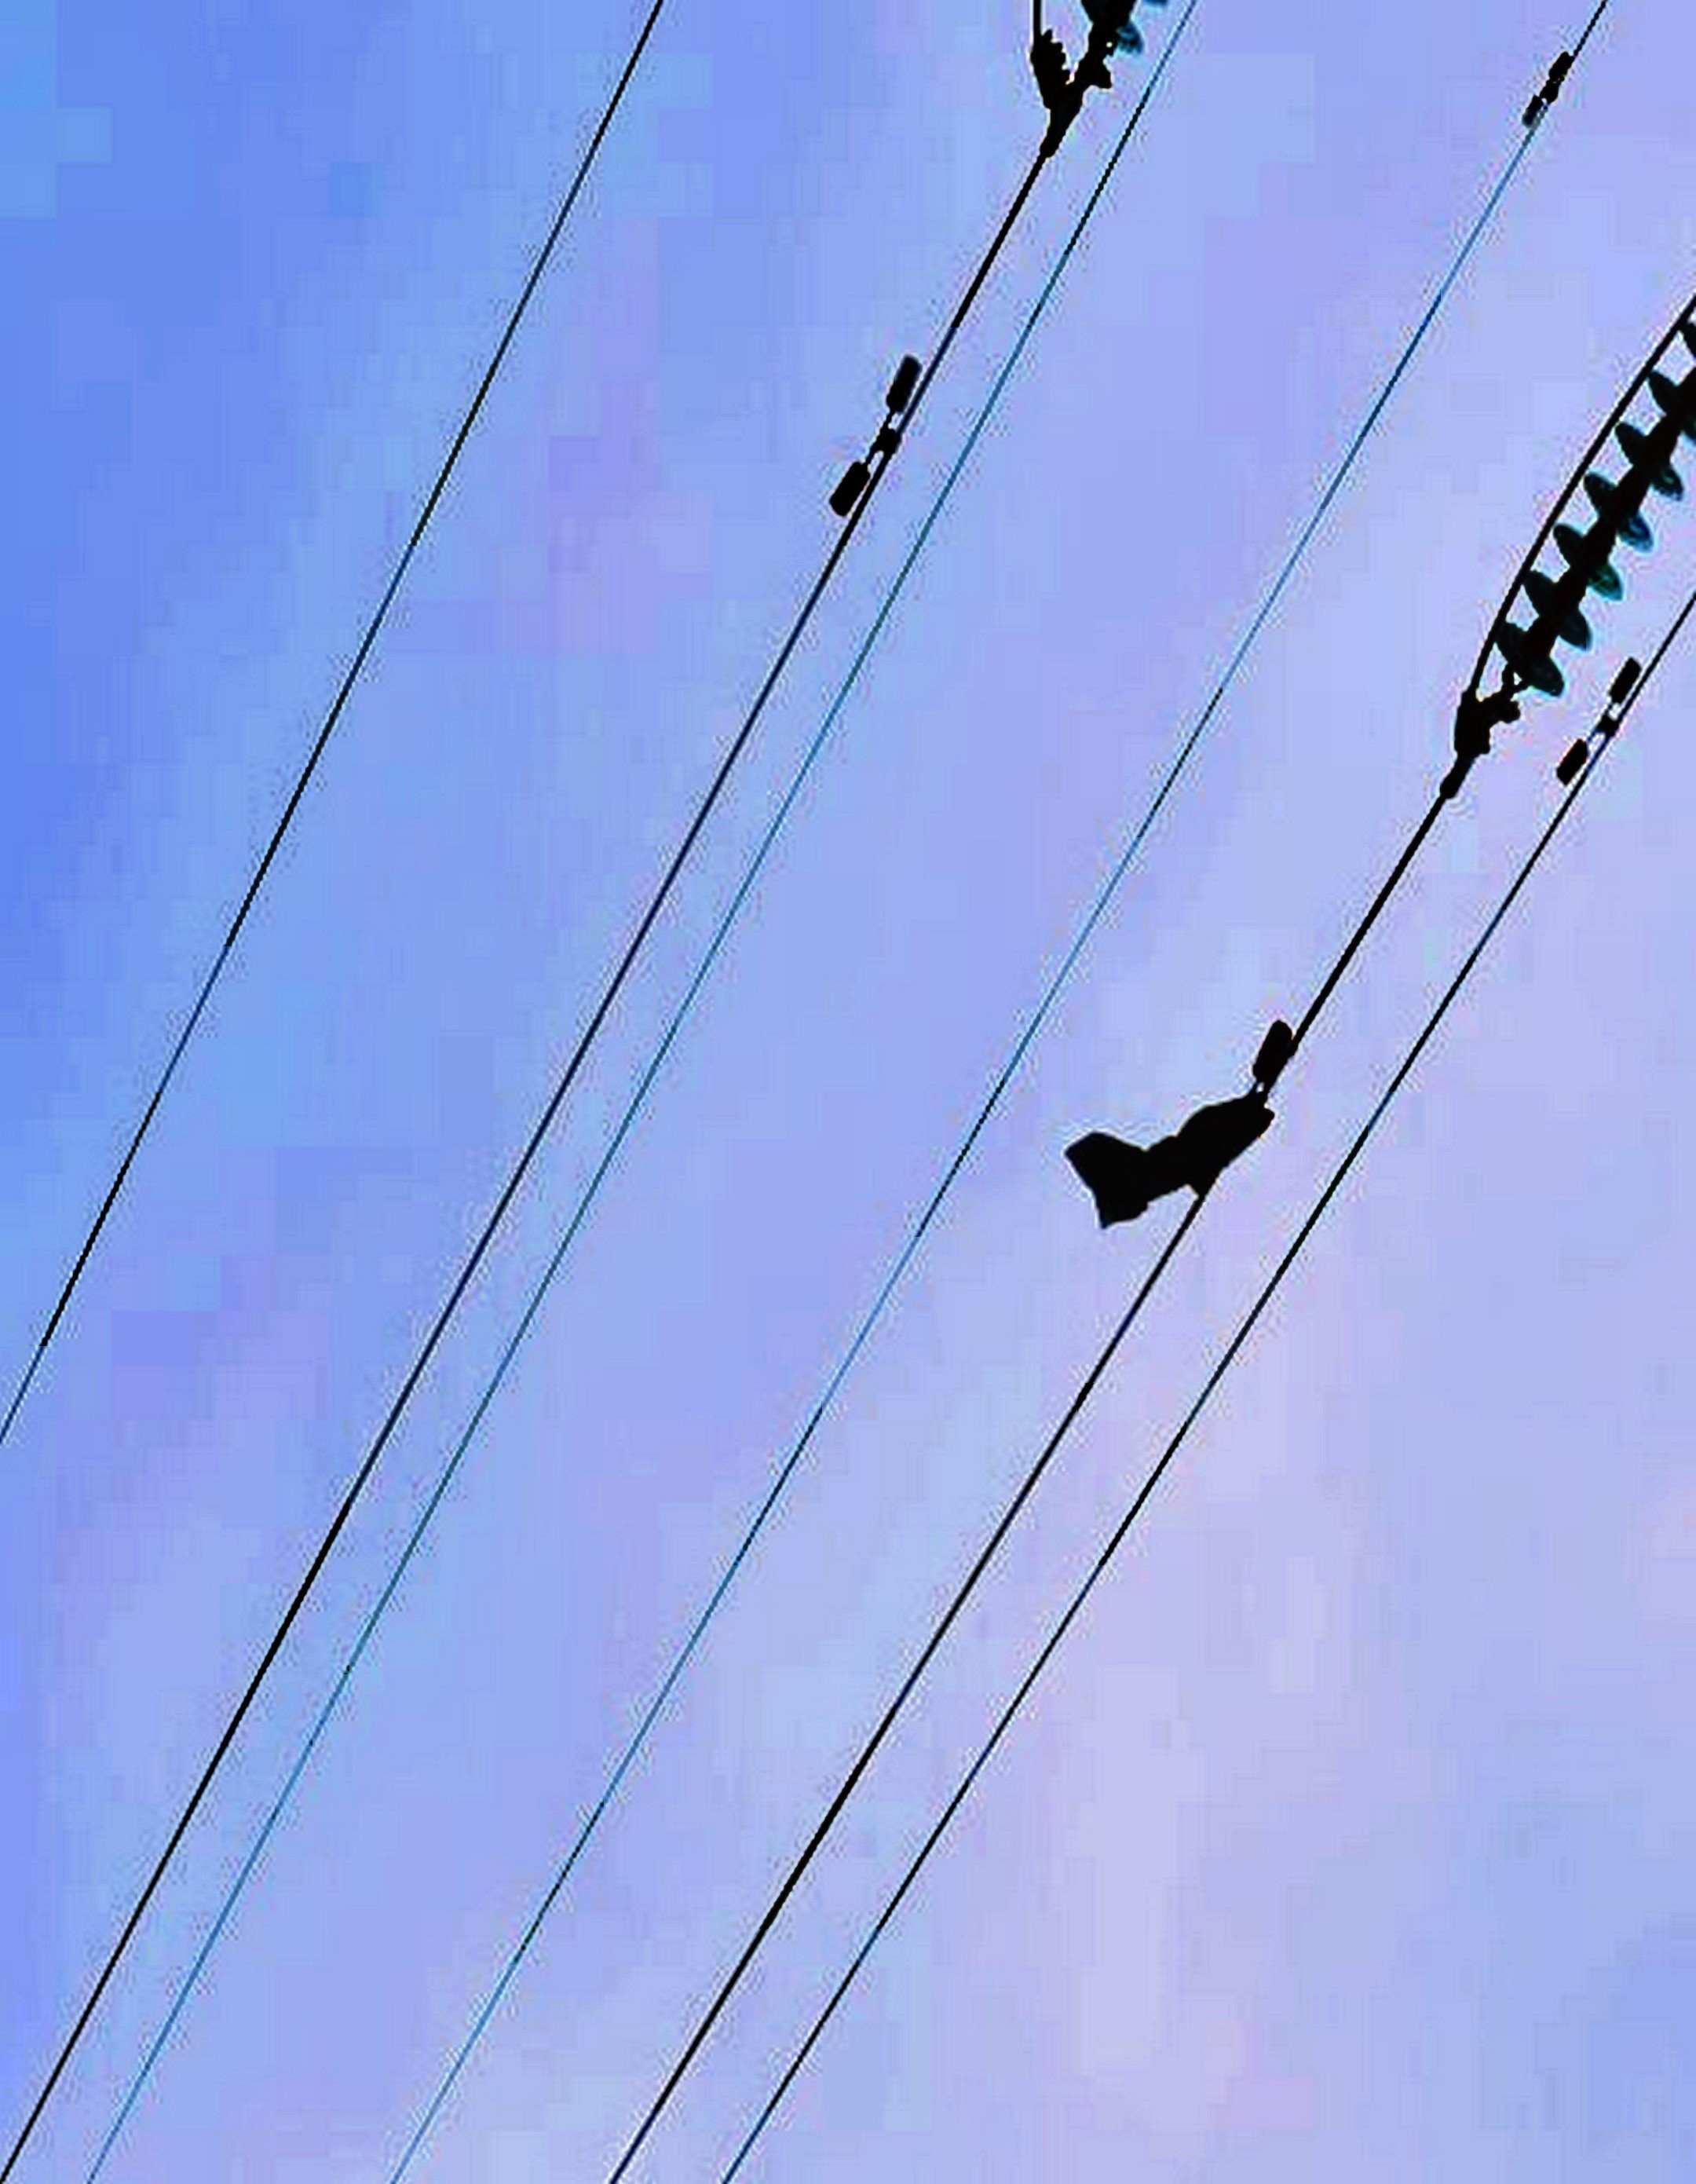wire foreign body: (1021, 993, 1342, 1267)
